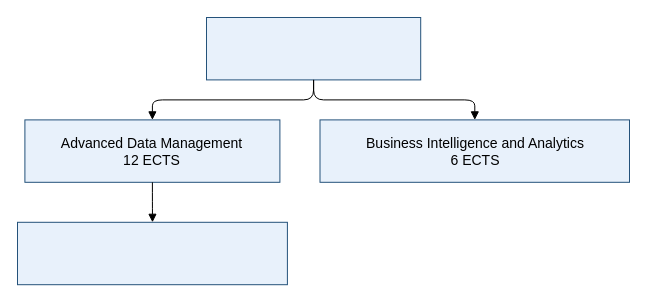
The diagram is 647 pixels wide and 303 high, and some of its shapes have lost their labels. Here are the shapes that lost their labels. From the top down, the centre of each, then its label:
(313,48): Database Foundations 12 ECTS
(151,253): Big Data Processing Platforms 9 ECTS
